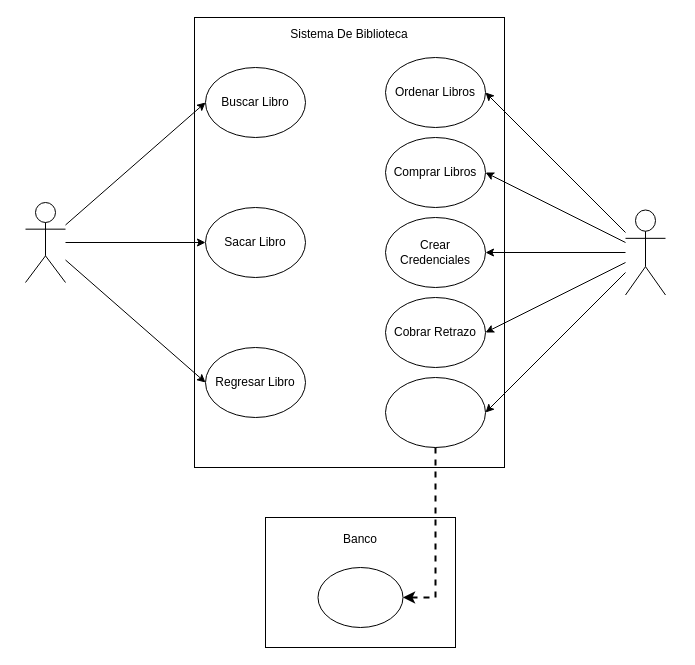
Some shapes in this 695 by 665 pixel diagram are drawn without their labels. Here are the shapes that lost their labels. From the top down, the centre of each, then its label:
(45,242): Estudiante
(645,252): Bibliotecario
(435,412): Depositar Dinero
(360,597): Deposito
